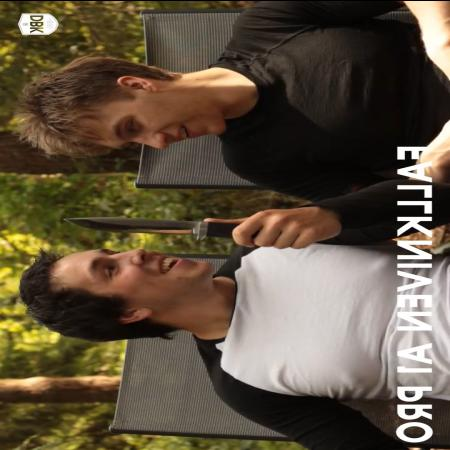long weapon: (51, 210, 305, 249)
